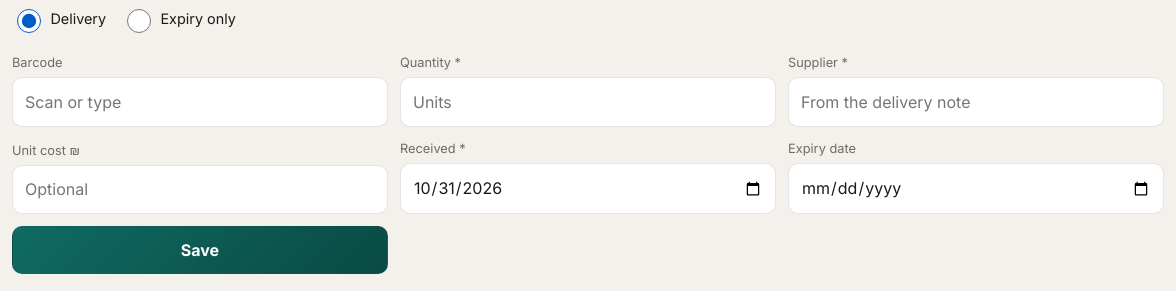
ReceivingCaptureForm — expiry-only mode › refuses a line with no expiry date, which is the whole point of the mode
The image size is (1176, 291).
Click the radio button labelled "Expiry only" at (139, 21), box [127, 9, 151, 33]
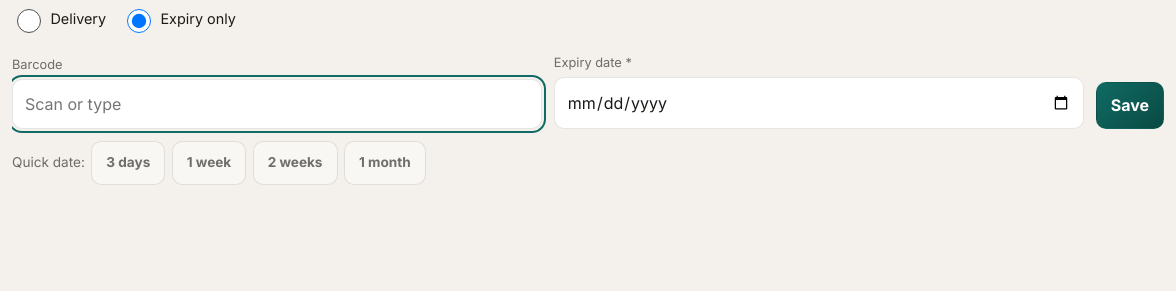
Type "7290000066318" into the field labelled "Barcode" at (277, 104), box [12, 79, 542, 129]
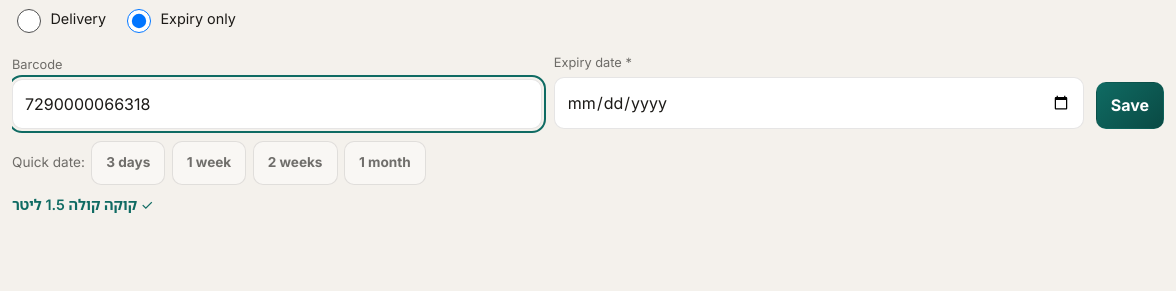
Click the button "Save" at (1130, 105), box [1096, 82, 1164, 129]
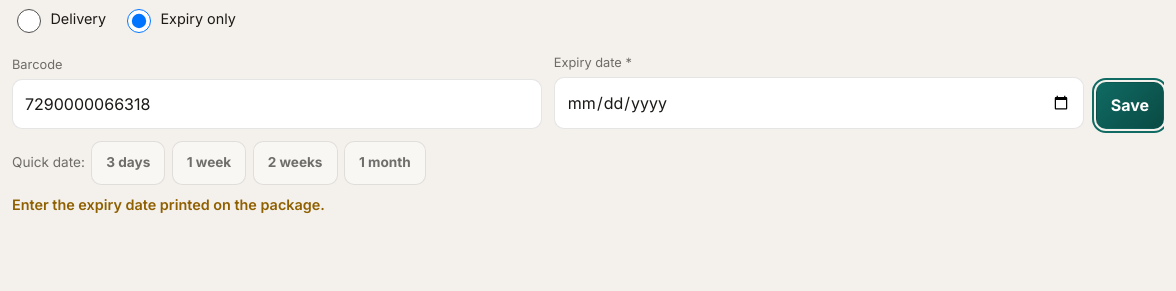
Now the text "Enter the expiry date printed on the package." is shown, box [12, 196, 325, 213]
